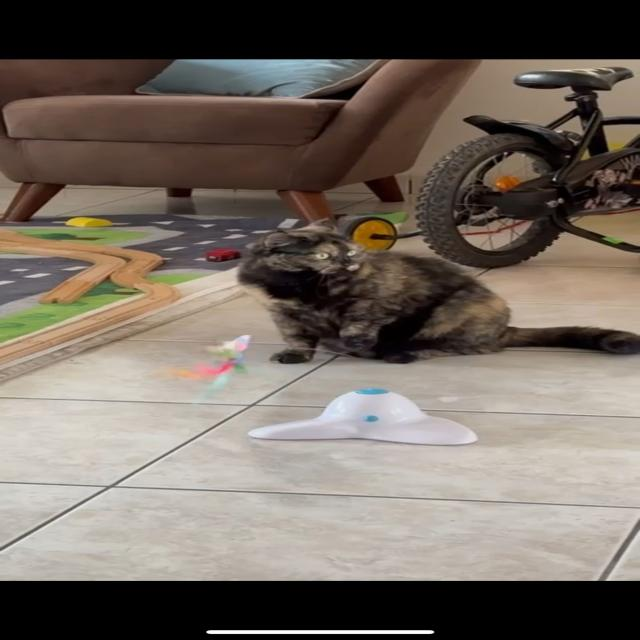authorized: (236, 216, 638, 364)
